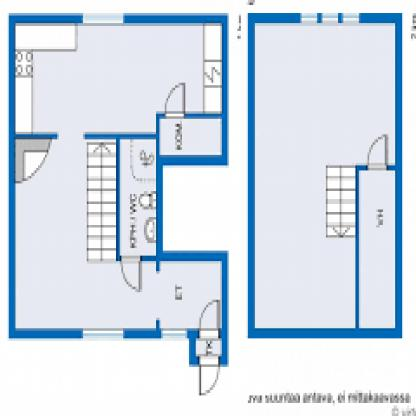door: (119, 256, 144, 300), (364, 128, 391, 166), (162, 80, 187, 121), (198, 358, 221, 394), (200, 299, 222, 329)
window: (80, 327, 126, 341), (81, 12, 127, 25), (160, 328, 186, 338), (321, 12, 339, 24), (341, 14, 360, 22), (300, 15, 319, 20)
zone: (256, 22, 395, 330), (15, 139, 157, 327), (16, 24, 222, 133), (360, 168, 396, 332), (154, 260, 221, 329), (120, 142, 156, 256), (160, 121, 222, 154)
